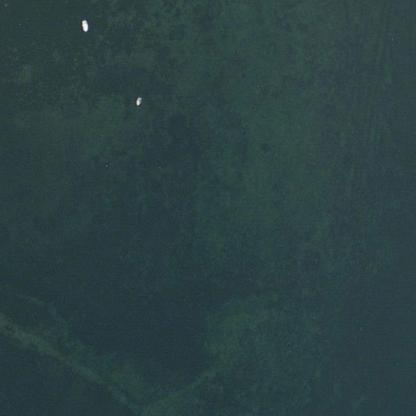ship: (129, 89, 147, 110), (76, 15, 94, 34)
